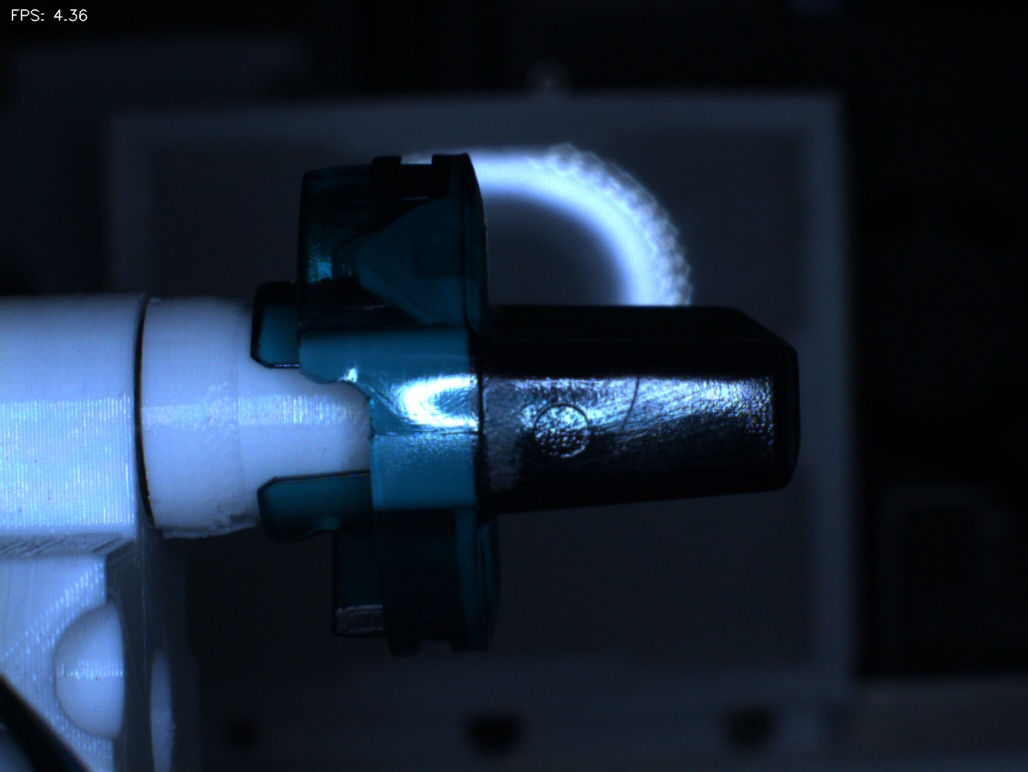DentOk: (328, 218, 393, 302)
